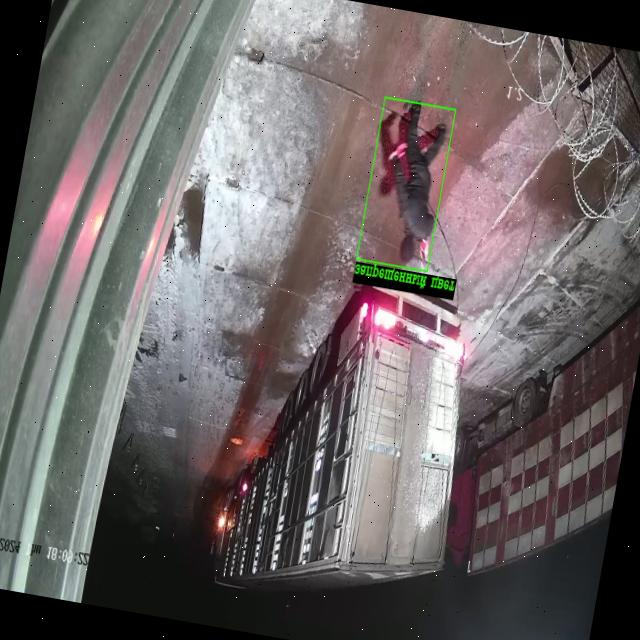Person: (390, 103, 447, 263)
